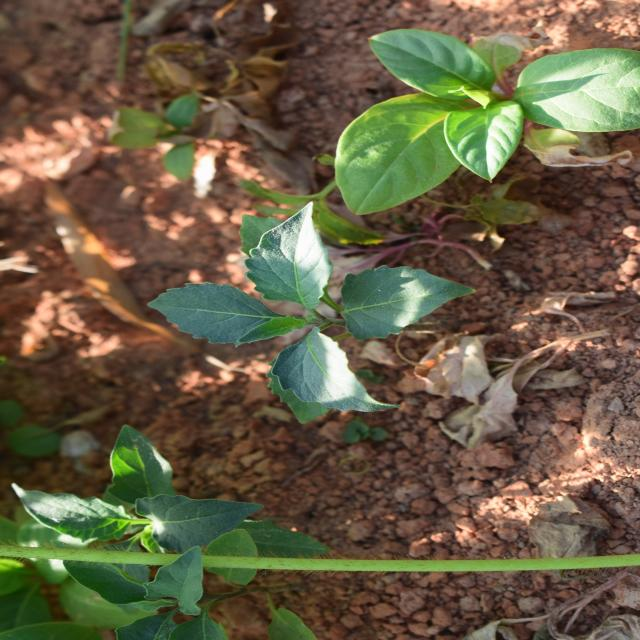Black_nightshade: (227, 138, 417, 438)
